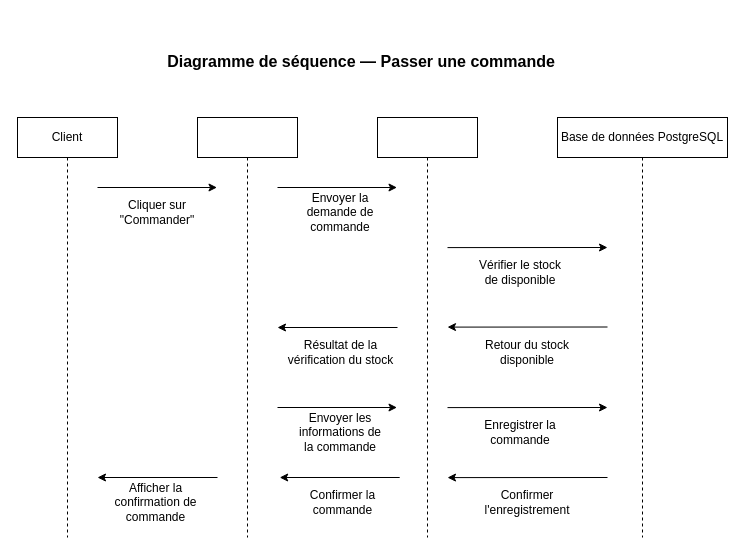
The diagram is 745 pixels wide and 555 high, and some of its shapes have lost their labels. The box of each missing label's shape, as (x1, y1, x2, y2) in pixels:
API backend: (376, 116, 478, 538)
Interface web: (196, 116, 298, 538)
